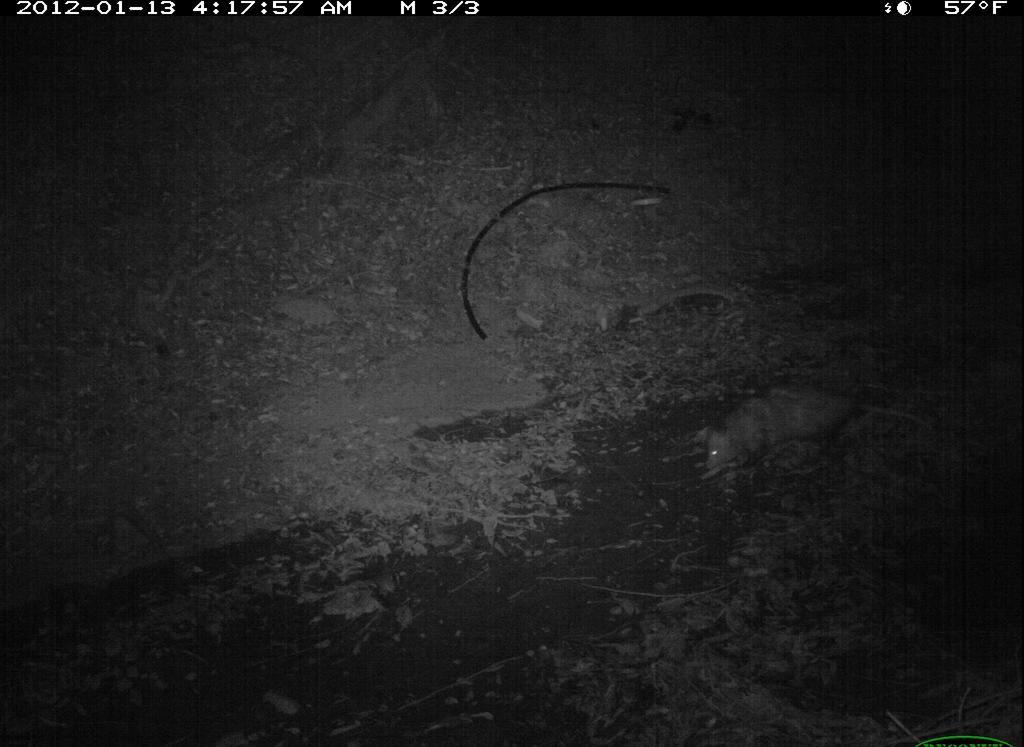opossum: (699, 376, 945, 491)
